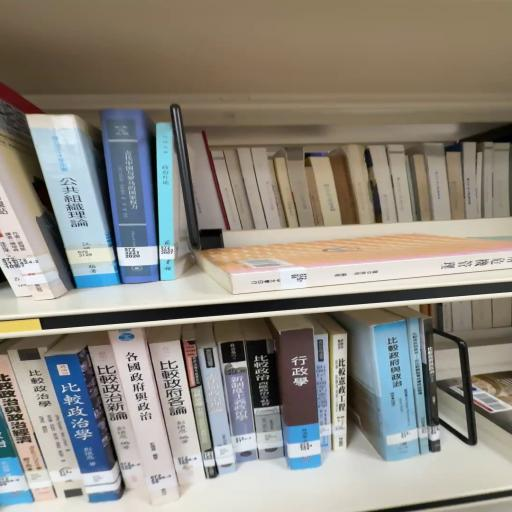flat: (197, 235, 512, 295)
